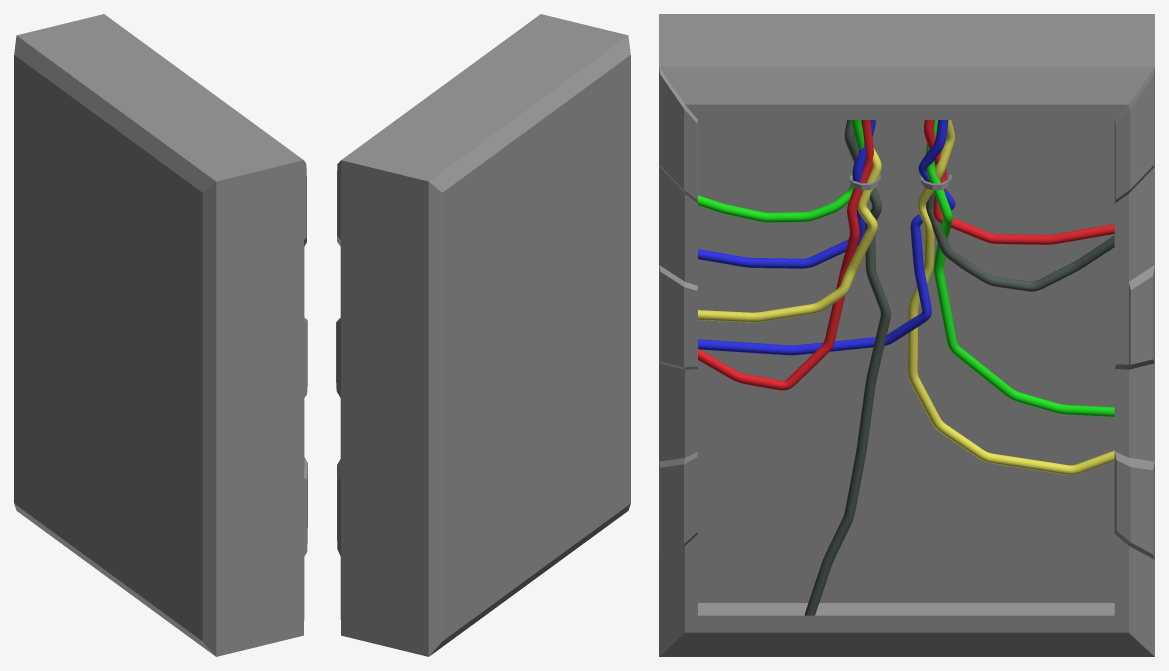
Rendered from fixWiring.fbx.
3 views of the same model, side by side, from view 1: azimuth 30°, elevation 25°; view 2: azimuth 150°, elevation 25°; view 3: azimuth 270°, elevation 25° (orthographic). The views are drawn at different scales.
Parts seen in each view (by area): view 1: Cube; view 2: Cube; view 3: Cube, Cube.007, Cube.005, Cube.004, Cube.003, Cube.009, Cube.008, Cube.001, Cube.002, Cube.010, Cube.011.
Part boxes in pixels (x1,y1,x2,y2): Cube: [14, 14, 307, 656]; Cube: [336, 14, 630, 656]; Cube: [659, 14, 1154, 656]; Cube.007: [804, 120, 890, 615]; Cube.005: [907, 120, 1114, 474]; Cube.004: [698, 120, 955, 355]; Cube.003: [925, 120, 1114, 417]; Cube.009: [698, 120, 873, 390]; Cube.008: [698, 148, 881, 322]; Cube.001: [926, 151, 1114, 291]; Cube.002: [924, 120, 1114, 244]; Cube.010: [698, 120, 875, 268]; Cube.011: [698, 120, 864, 222].
Bounding box in the file's own units: 48.55 × 200 × 152.
